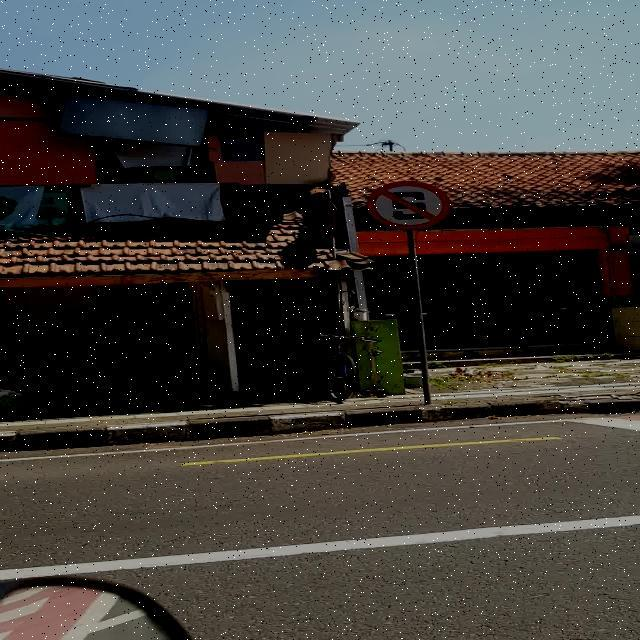Dilarang Berhenti: (367, 181, 451, 229)
